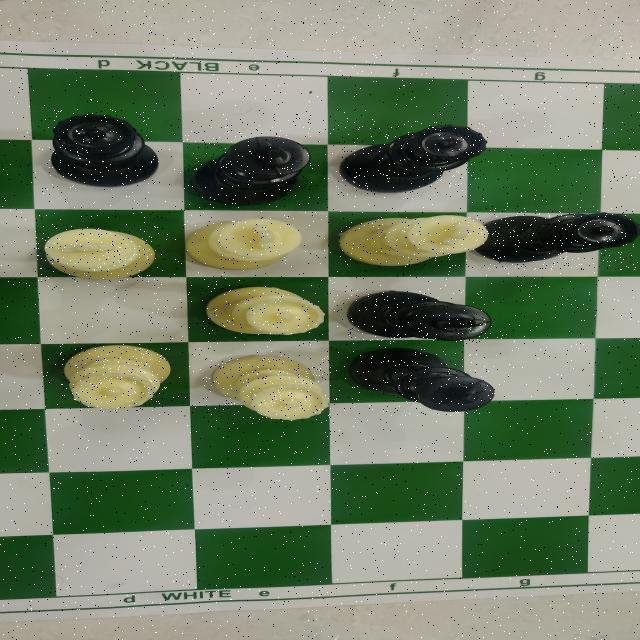black-king: (187, 125, 322, 209), (352, 349, 495, 416), (348, 290, 488, 344)
black-queen: (338, 121, 490, 197), (484, 206, 634, 270), (40, 110, 156, 189)
white-king: (338, 217, 490, 268), (34, 222, 160, 282), (182, 216, 300, 274)
white-queen: (203, 358, 338, 424), (60, 346, 167, 413), (200, 288, 318, 338)
